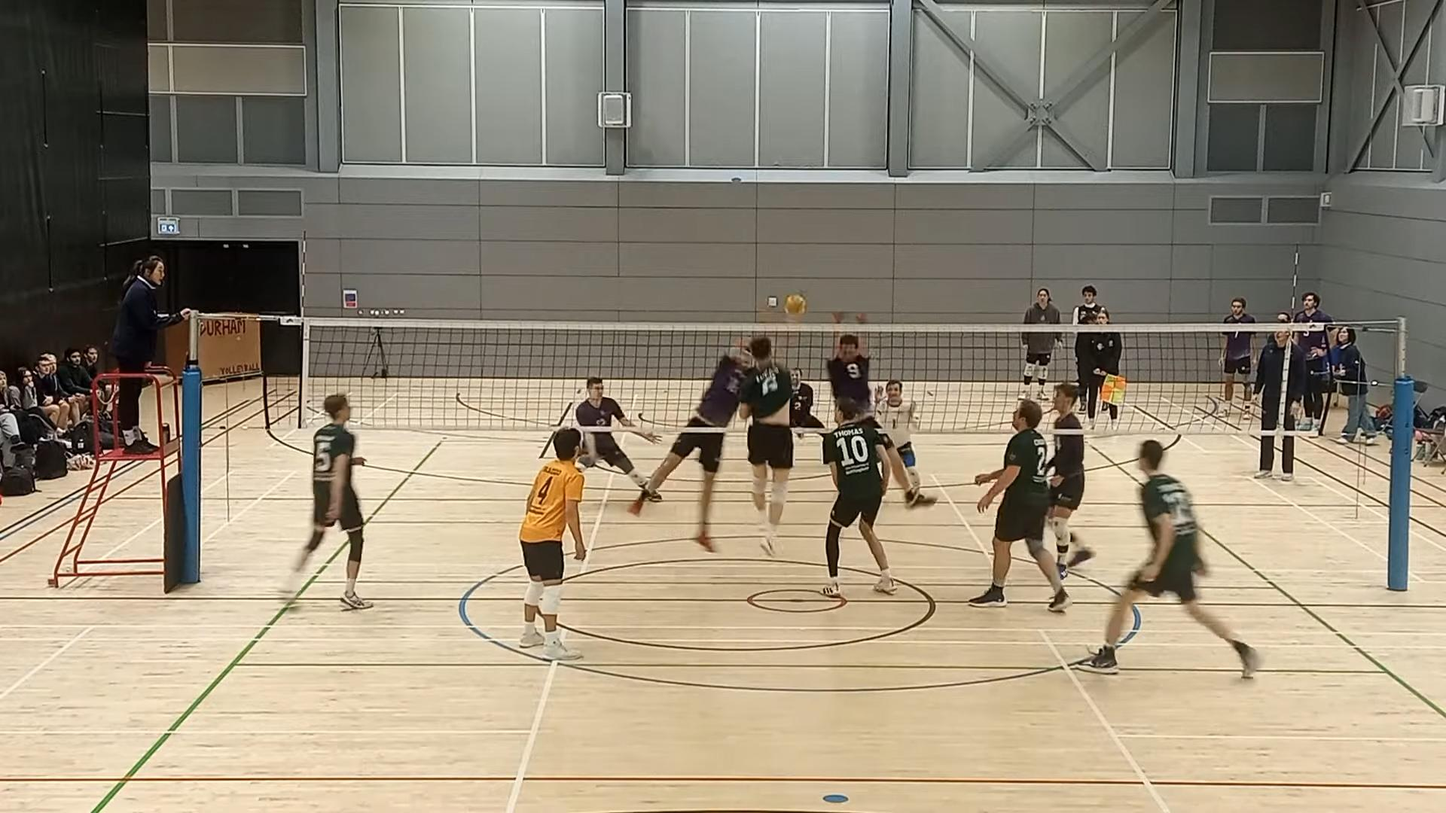Attack: (738, 326, 796, 560)
Block: (625, 325, 755, 560), (825, 300, 884, 425)
Player: (1077, 440, 1258, 678), (969, 399, 1069, 612), (293, 394, 372, 609), (519, 428, 586, 660), (822, 399, 896, 596), (1047, 383, 1094, 577), (575, 376, 659, 443), (874, 380, 920, 492), (790, 368, 824, 428)
ball: (785, 295, 806, 313)
